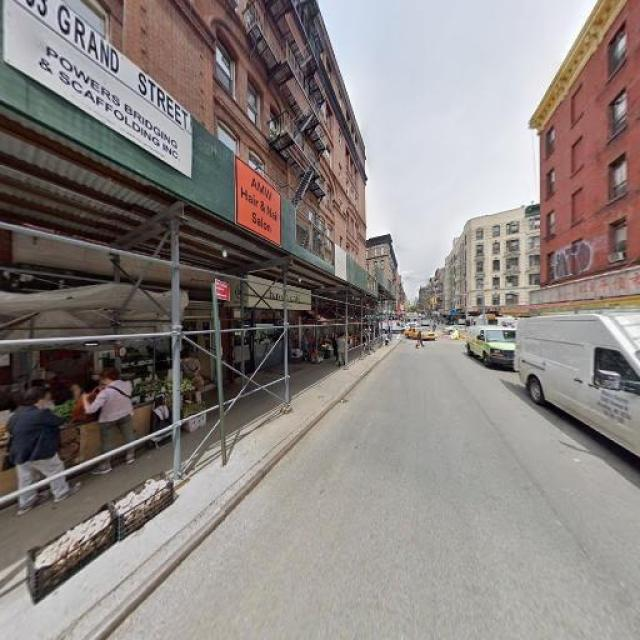Building: (1, 1, 365, 432), (548, 1, 640, 374)
